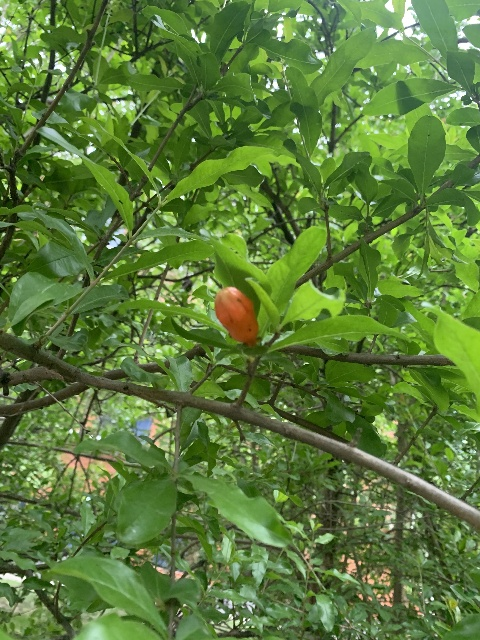bud: (213, 286, 259, 347)
